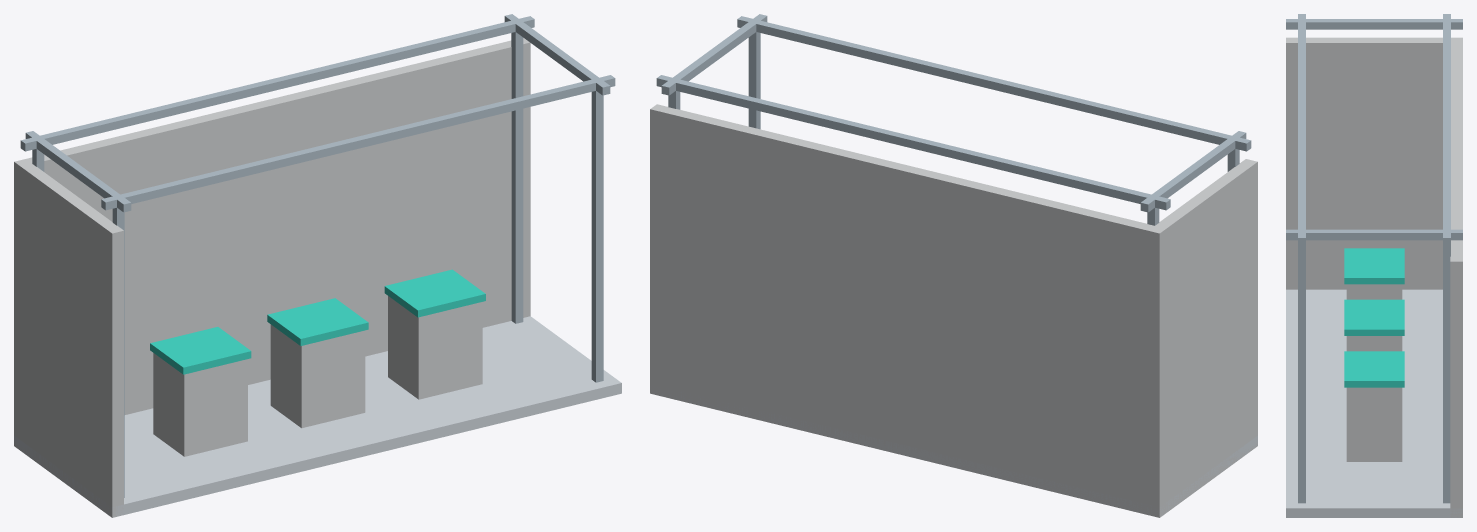
The picture shows the model from 3 angles, left to right: view 1: azimuth 30°, elevation 25°; view 2: azimuth 150°, elevation 25°; view 3: azimuth 270°, elevation 25°; orthographic projection. The views are drawn at different scales.
Parts seen in each view (by area): view 1: Exhibition Booth Concept; view 2: Exhibition Booth Concept; view 3: Exhibition Booth Concept.
Part boxes in pixels (x1=…): Exhibition Booth Concept: x1=14, y1=14, x2=621, y2=517; Exhibition Booth Concept: x1=650, y1=14, x2=1257, y2=517; Exhibition Booth Concept: x1=1286, y1=14, x2=1462, y2=517.
Size of the model in its own units: 6 by 3.49 by 2.
